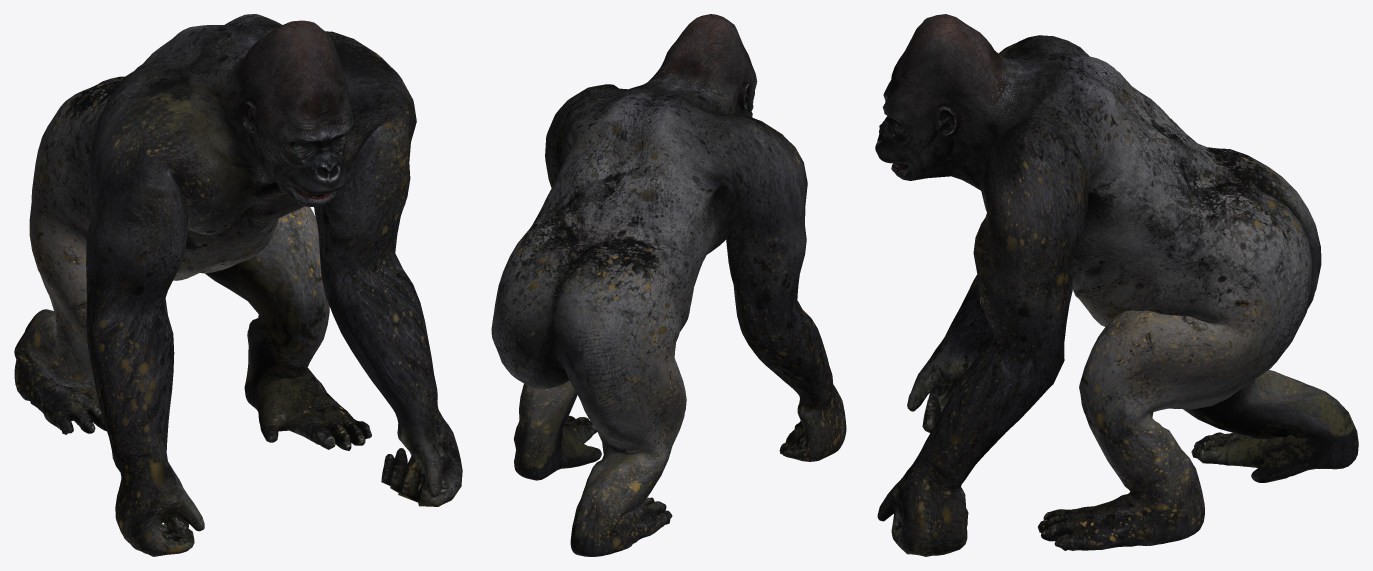
3 renders of one model, left to right at view 1: azimuth 30°, elevation 25°; view 2: azimuth 150°, elevation 25°; view 3: azimuth 270°, elevation 25°, orthographic. The views are drawn at different scales.
Parts seen in each view (by area): view 1: Gorilla_SHP_0; view 2: Gorilla_SHP_0; view 3: Gorilla_SHP_0.
Part boxes in pixels (x1,y1,x2,y2): Gorilla_SHP_0: (14, 14, 462, 556); Gorilla_SHP_0: (491, 14, 846, 556); Gorilla_SHP_0: (875, 14, 1358, 556).
Bounding box in the file's own units: 0.1016 × 0.1519 × 0.1387.
Materials: 1 (1 with a texture image).
